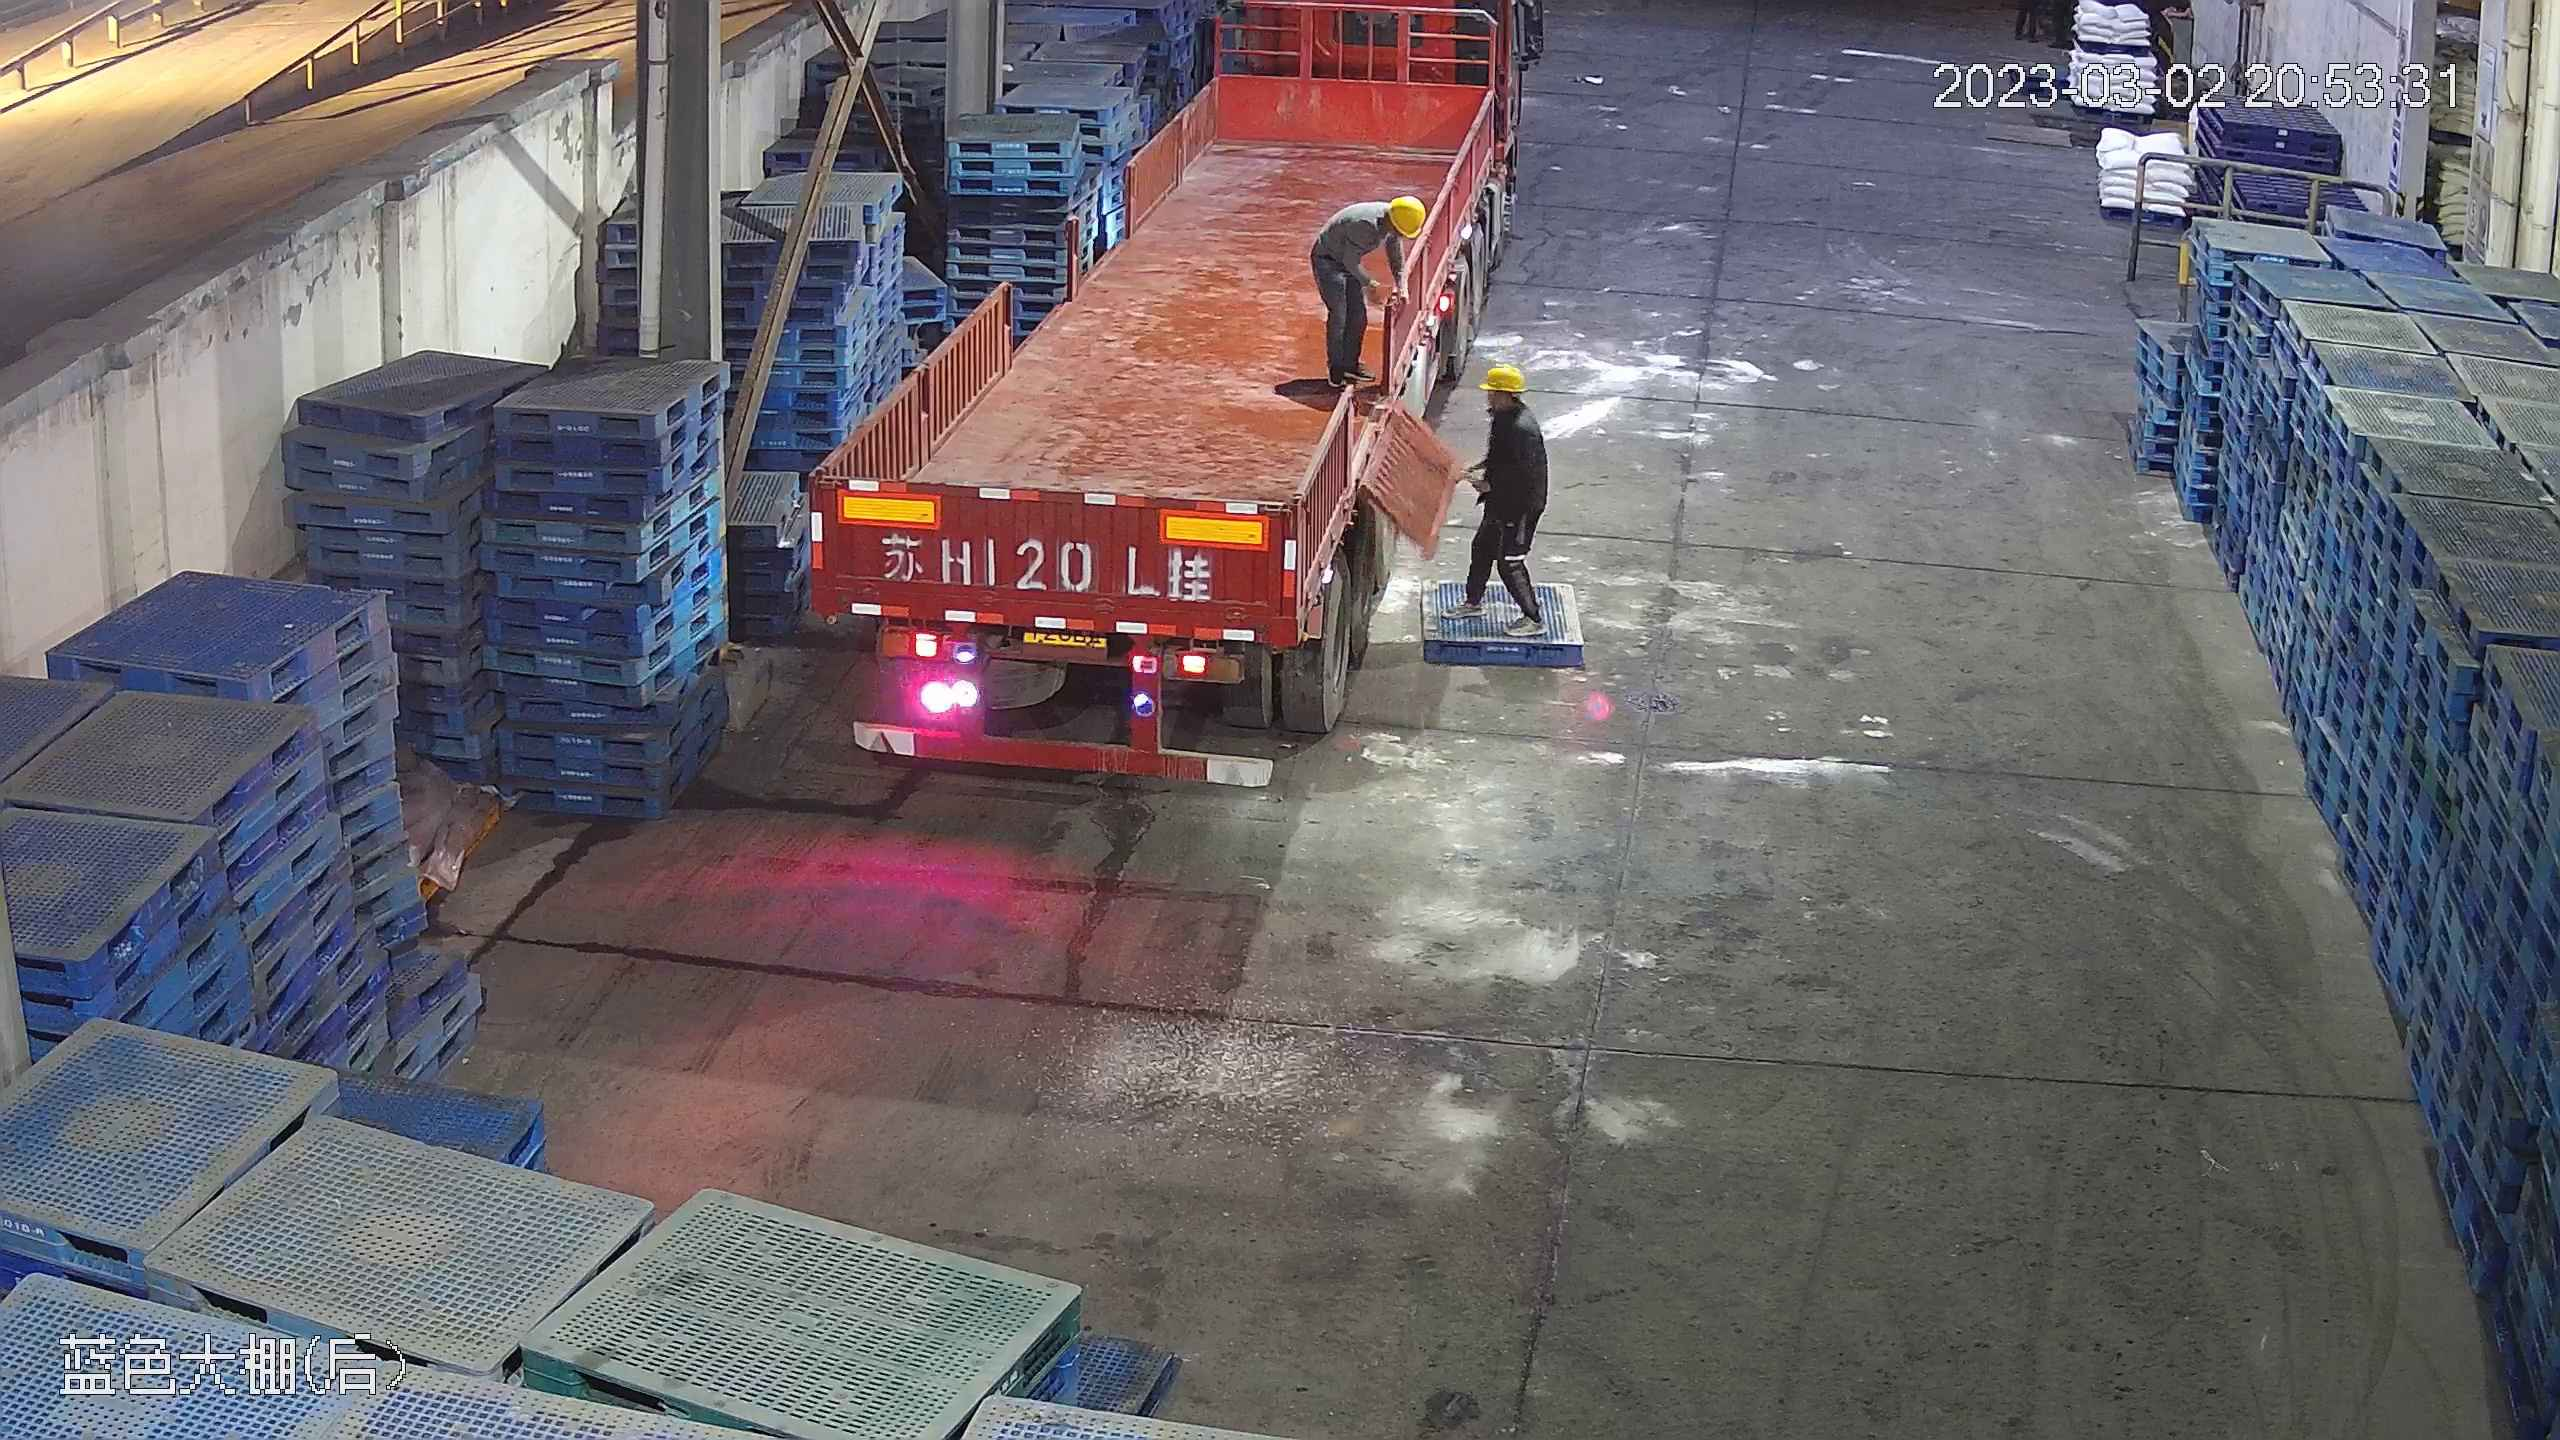head: (1474, 362, 1546, 454), (1337, 194, 1424, 267)
helmet: (1385, 194, 1426, 239), (1477, 361, 1525, 394)
people: (1448, 360, 1554, 626), (1303, 190, 1427, 402)
truck: (798, 5, 1528, 779)
